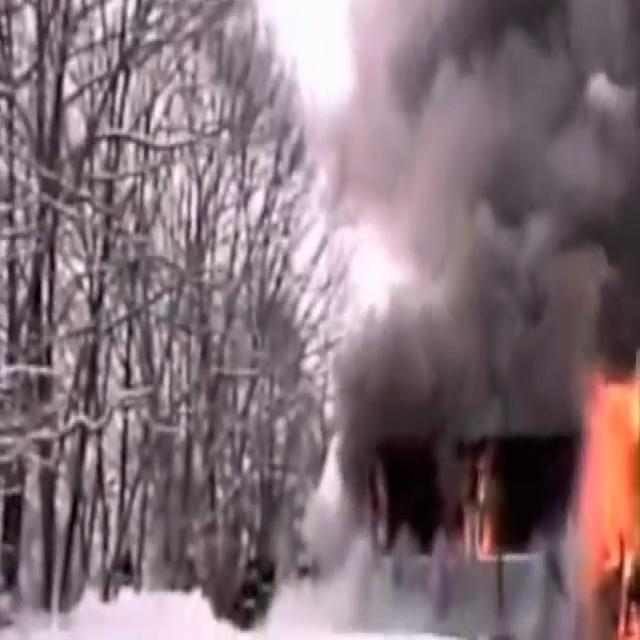Fire: (565, 346, 640, 636)
Smoke: (281, 0, 640, 596)
